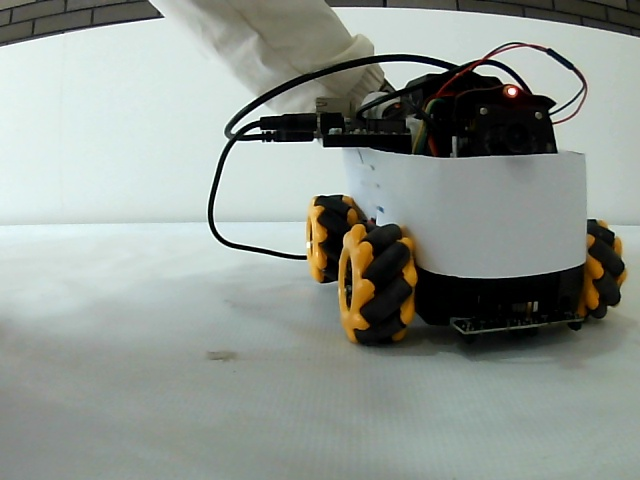car: (309, 71, 628, 347)
paper: (405, 155, 585, 266)
